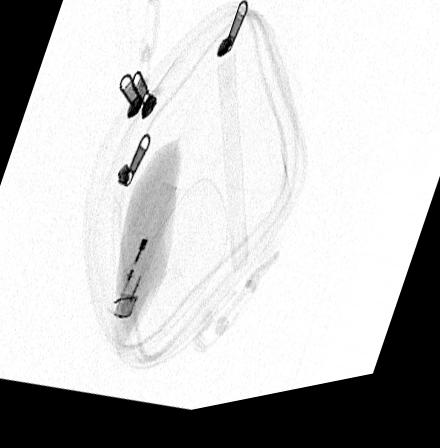Lighter: (109, 188, 179, 323)
